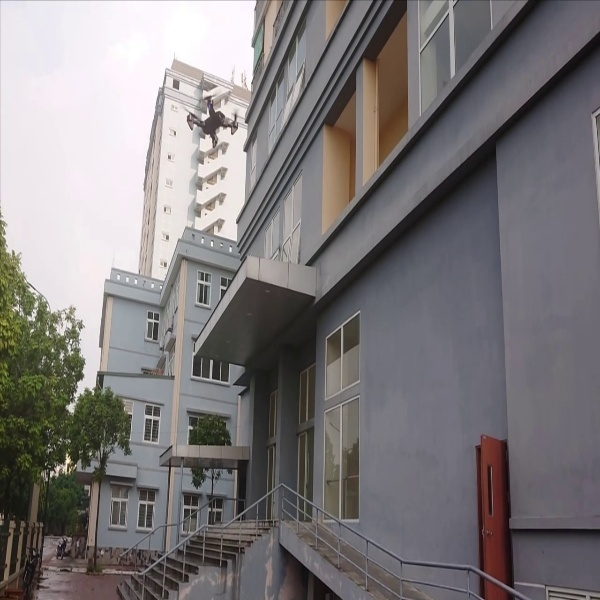drone: (174, 87, 246, 148)
